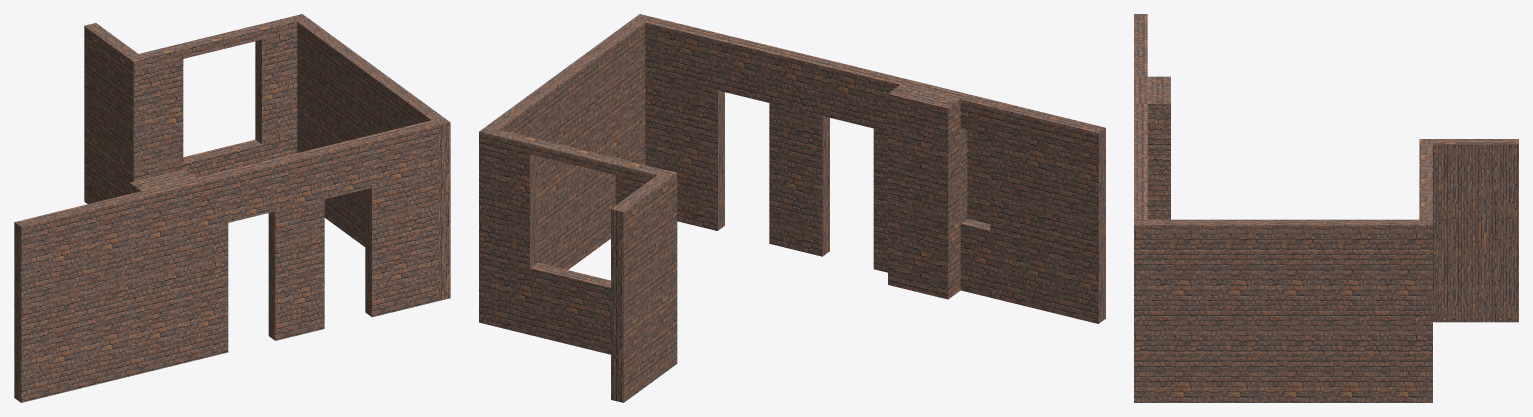
Rendered from kinkiOneViewOne.gltf.
3 views of the same model, side by side, from view 1: azimuth 30°, elevation 25°; view 2: azimuth 150°, elevation 25°; view 3: azimuth 270°, elevation 25° (orthographic). The views are drawn at different scales.
Parts seen in each view (by area): view 1: kinkiOneViewOne; view 2: kinkiOneViewOne; view 3: kinkiOneViewOne.
Boxes of the visible parts, box(x1,y1,x2,y2) form: kinkiOneViewOne: box(14, 14, 450, 402); kinkiOneViewOne: box(479, 14, 1105, 402); kinkiOneViewOne: box(1134, 14, 1518, 402).
Bounding box in the file's own units: 7.28 × 2.85 × 5.6.
1 material, 1 textured.
